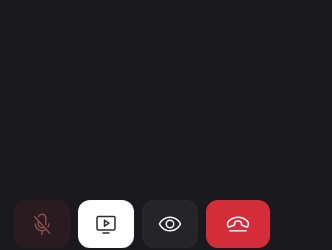
Test: a barra flutuante › no ar, o botão da tela vira "No ar" e abre o menu — trocar, som e qualidade saem da barra
(page scrolled)
Click the button named "Sua tela está no ar — opções" at {"x": 106, "y": 224}, box [78, 200, 134, 248]
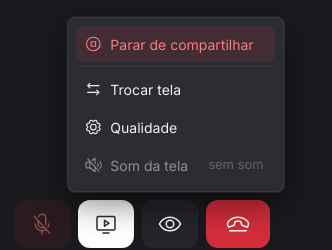
Now the button named "Sua tela está no ar — opções" is expanded, box [78, 200, 134, 248]
